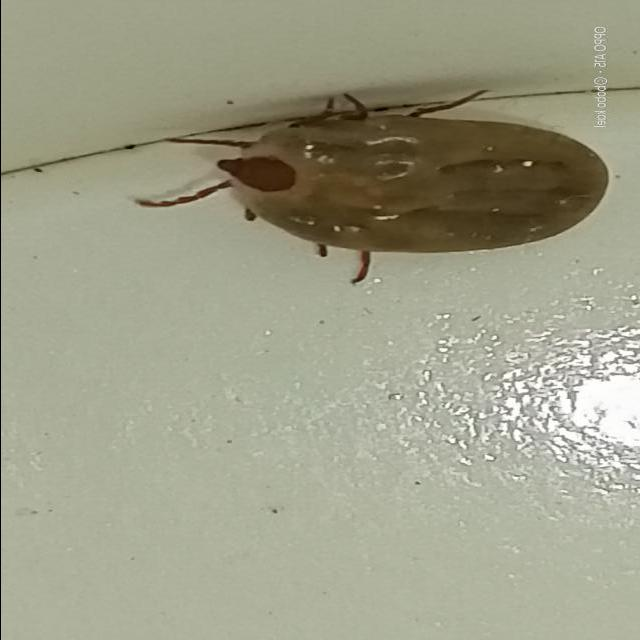Rhipicephalus Sanguineus-F-Fed: (134, 87, 613, 283)
